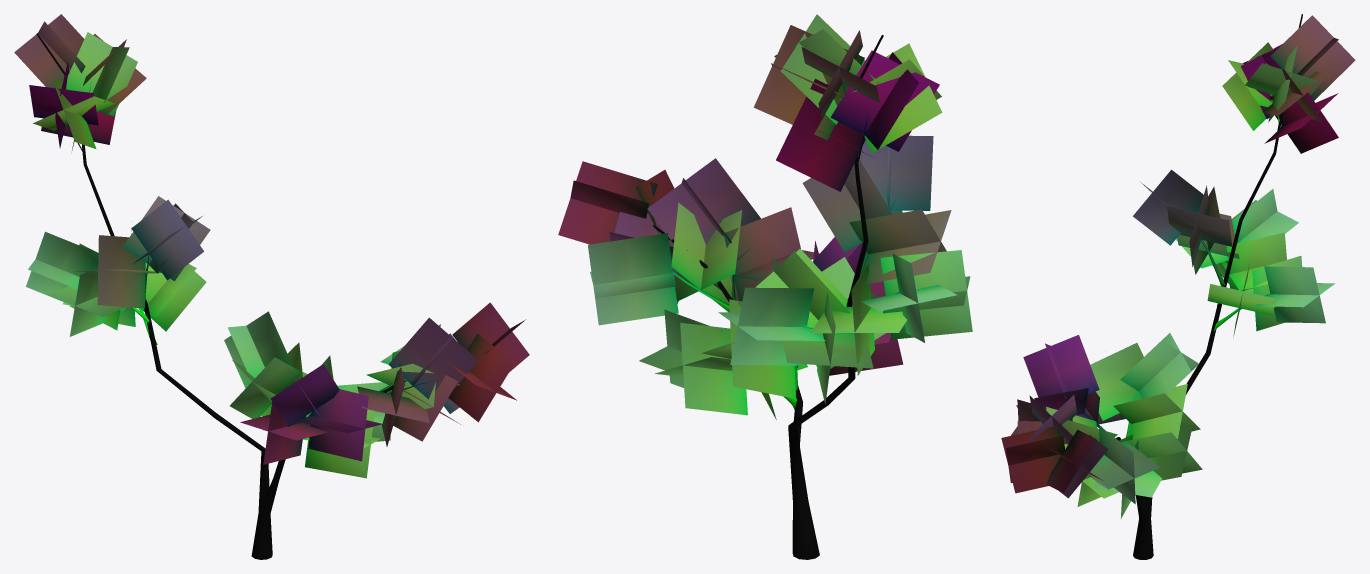
Rendered from URP_P5_Tree_9_LOD_2.fbx.
3 renders of one model, left to right at view 1: azimuth 30°, elevation 25°; view 2: azimuth 150°, elevation 25°; view 3: azimuth 270°, elevation 25°, orthographic. The views are drawn at different scales.
Parts seen in each view (by area): view 1: Tree_9_LOD_2; view 2: Tree_9_LOD_2; view 3: Tree_9_LOD_2.
Boxes of the visible parts, x1,y1,x2,y2 form: Tree_9_LOD_2: [14, 14, 529, 559]; Tree_9_LOD_2: [558, 14, 972, 559]; Tree_9_LOD_2: [1001, 14, 1355, 559].
Size of the model in its own units: 579 by 690 by 461.
